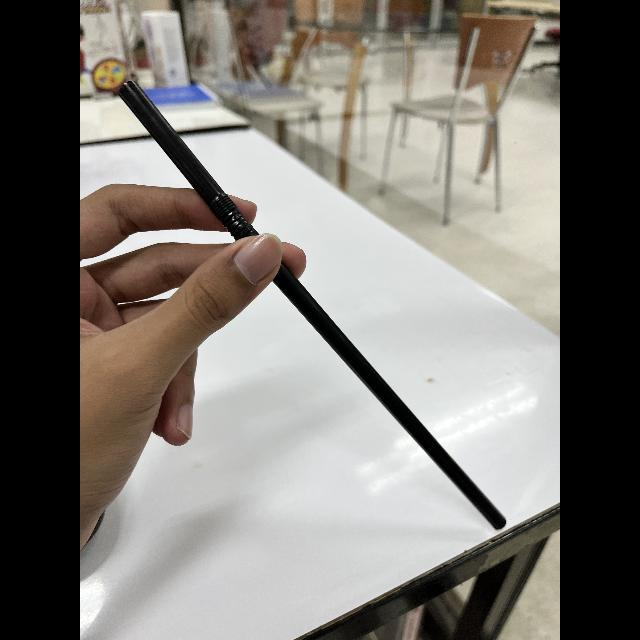straw: (116, 82, 510, 534)
